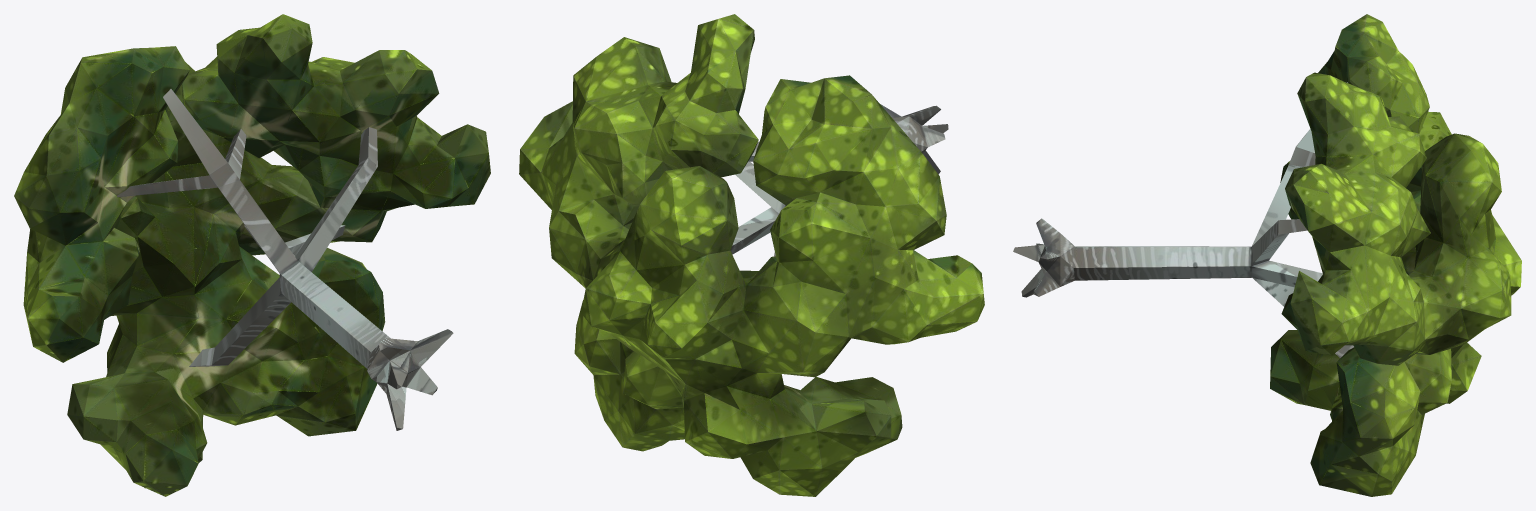
The model's file is tree2.glb.
3 views of the same model, side by side, from view 1: azimuth 30°, elevation 25°; view 2: azimuth 150°, elevation 25°; view 3: azimuth 270°, elevation 25° (orthographic). The views are drawn at different scales.
Parts seen in each view (by area): view 1: Tree; view 2: Tree; view 3: Tree.
Part boxes in pixels (left/top/right/bottom): Tree: left=14, top=14, right=490, bottom=496; Tree: left=519, top=14, right=984, bottom=496; Tree: left=1013, top=14, right=1521, bottom=496.
Size of the model in its own units: 2.11 by 1.97 by 2.23.
Materials: 1 (1 with a texture image).
